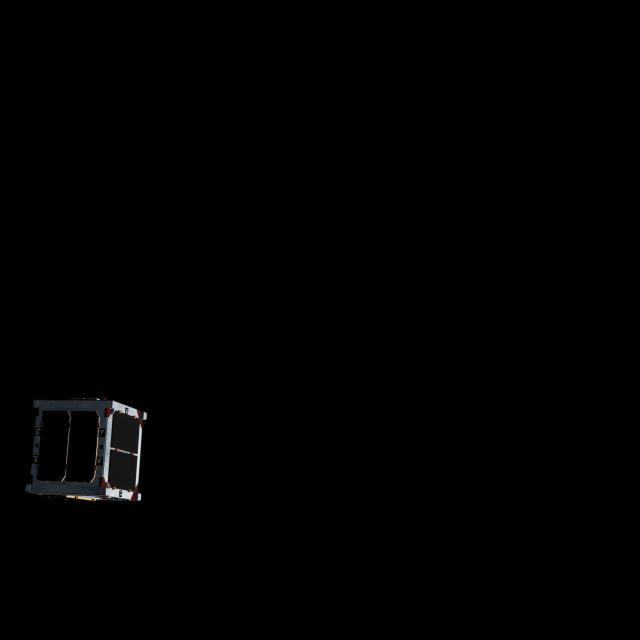medium_debris: (25, 384, 153, 508)
